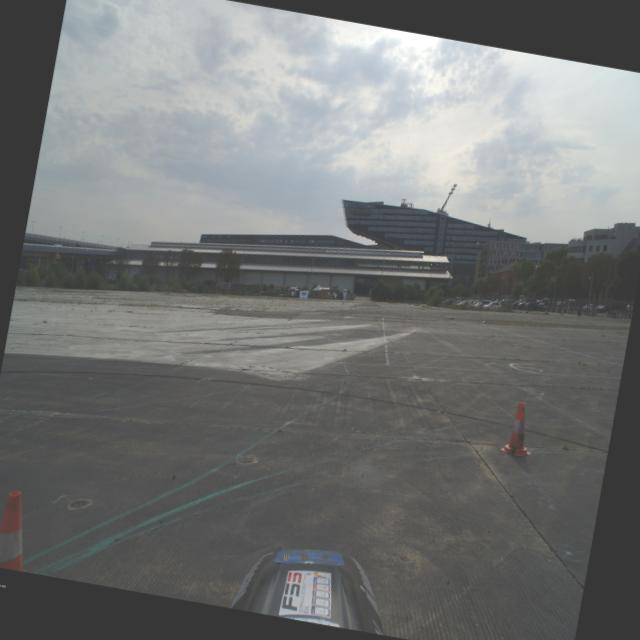orange_cone: (0, 487, 35, 571), (498, 399, 539, 458)
